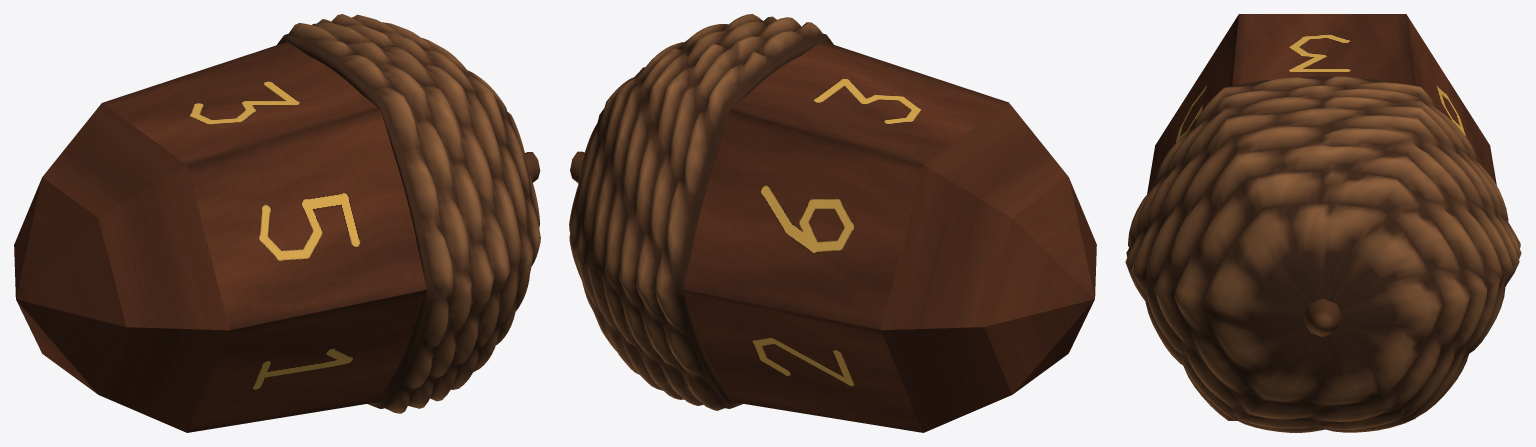
The model's file is acorn-d6.glb.
3 views of the same model, side by side, from view 1: azimuth 30°, elevation 25°; view 2: azimuth 150°, elevation 25°; view 3: azimuth 270°, elevation 25° (orthographic).
Parts seen in each view (by area): view 1: AcornD6; view 2: AcornD6; view 3: AcornD6.
Part boxes in pixels (<box>): AcornD6: <box>14,14,540,432</box>; AcornD6: <box>569,14,1096,432</box>; AcornD6: <box>1125,14,1521,432</box>.
Bounding box in the file's own units: 161 × 100 × 108.
2 materials, 1 textured.
